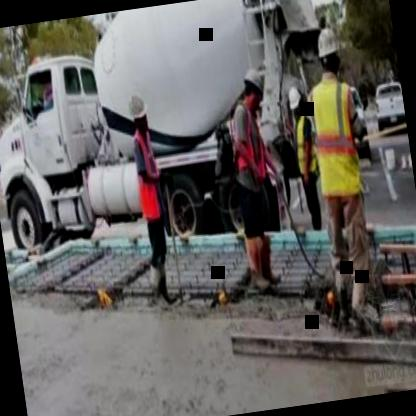helmet: (312, 20, 346, 78), (237, 62, 268, 118), (126, 91, 153, 135), (284, 82, 310, 126)
